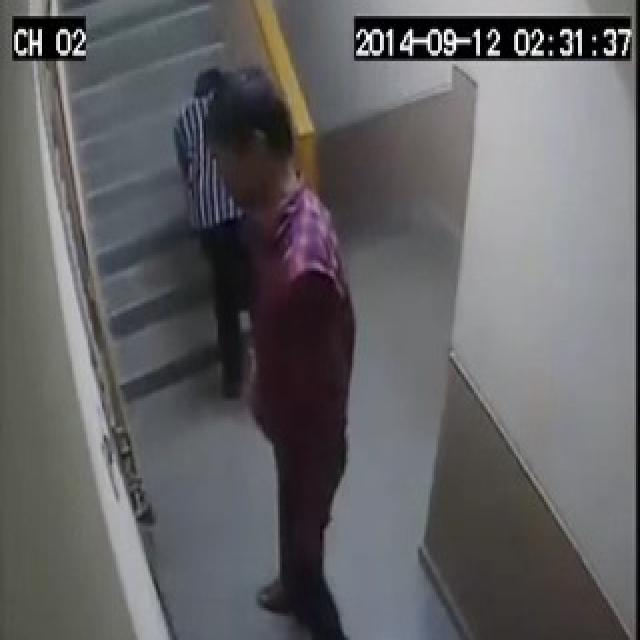thief: (176, 58, 360, 640)
